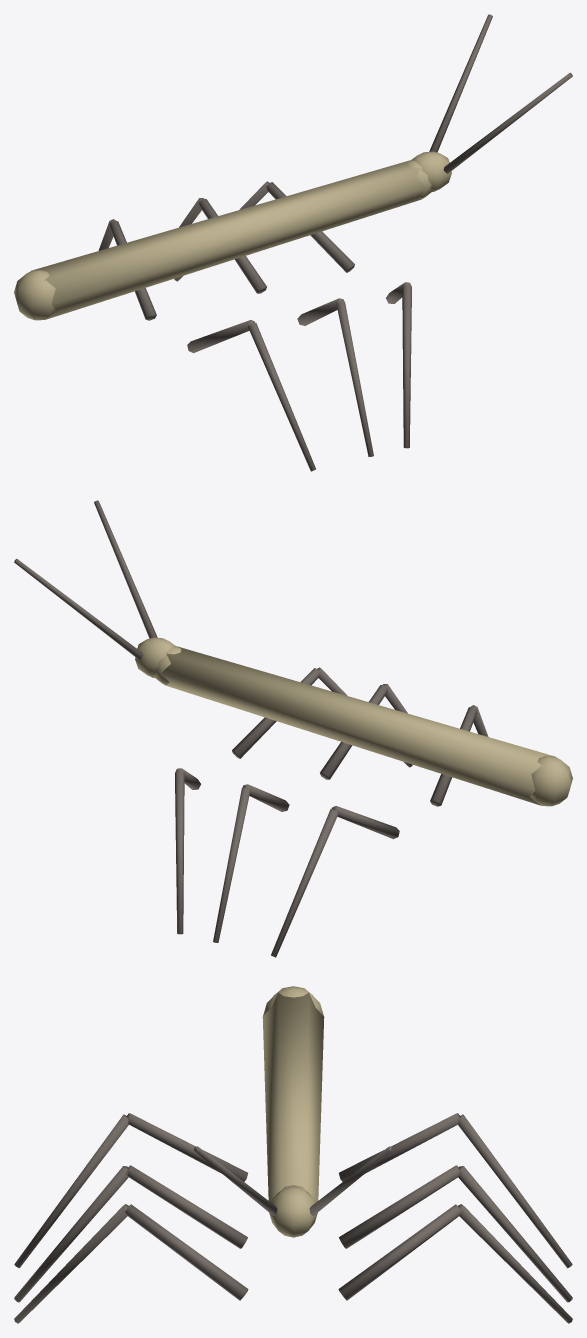
The model's file is long-tailed-stick-insect.glb.
3 views of the same model, one above another, from view 1: azimuth 30°, elevation 25°; view 2: azimuth 150°, elevation 25°; view 3: azimuth 270°, elevation 25° (orthographic). The views are drawn at different scales.
Parts seen in each view (by area): view 1: e; view 2: e; view 3: e.
Boxes of the visible parts, x1,y1,x2,y2 form: e: (14, 14, 572, 471); e: (14, 500, 572, 957); e: (14, 986, 572, 1323).
Bounding box in the file's own units: 0.5818 × 0.2836 × 0.455.
